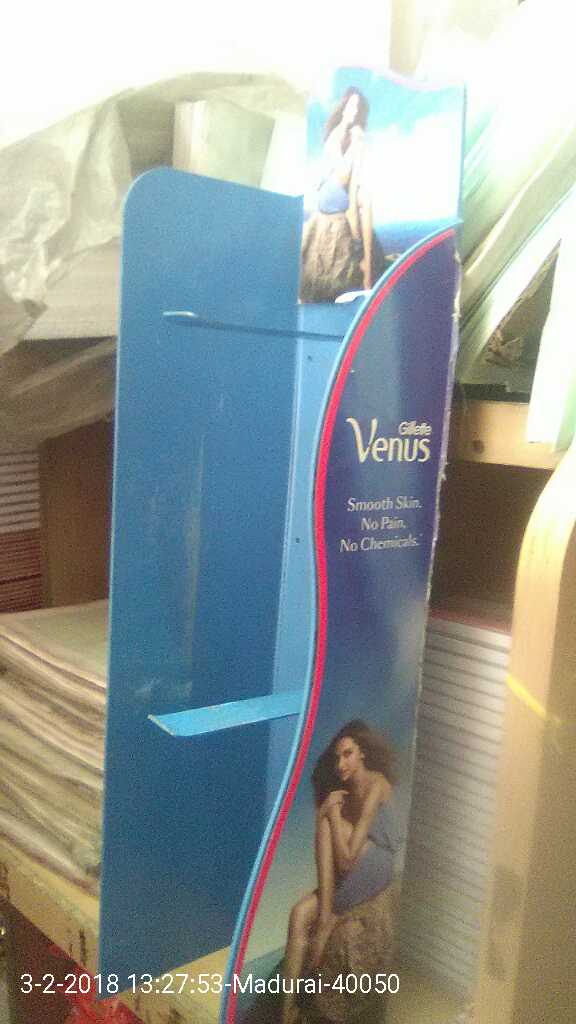reject: (305, 321, 446, 470)
